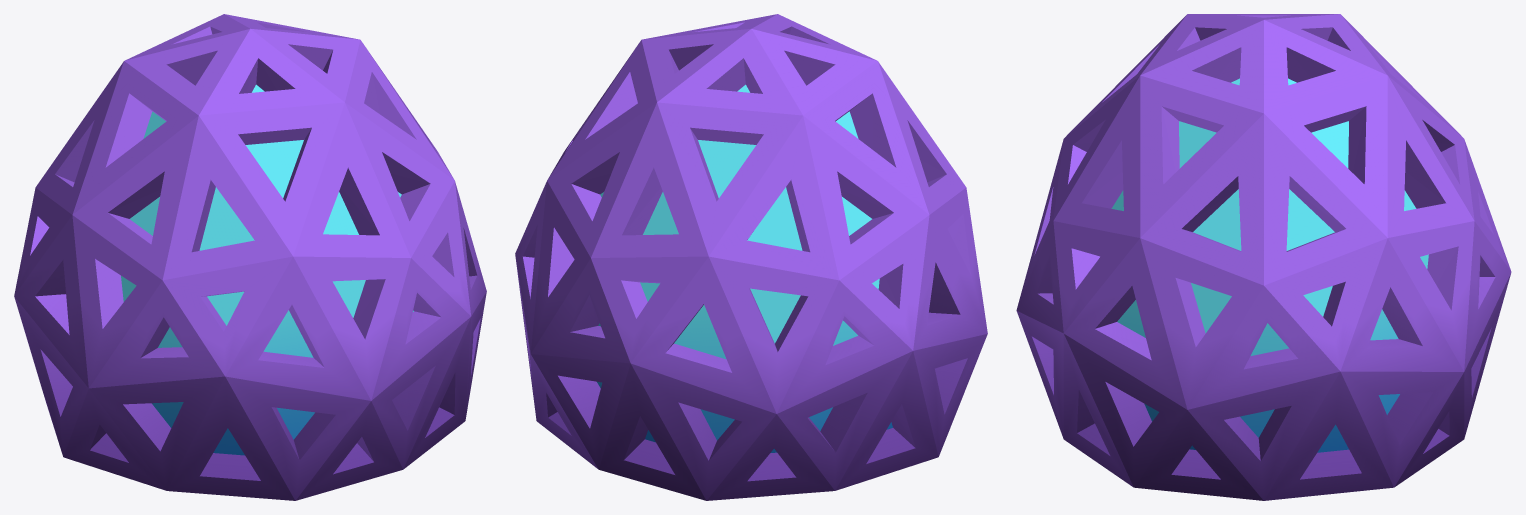
File: SM_Coral_11.fbx
3 views of the same model, side by side, from view 1: azimuth 30°, elevation 25°; view 2: azimuth 150°, elevation 25°; view 3: azimuth 270°, elevation 25° (orthographic). The views are drawn at different scales.
Visible parts, largest first — view 1: Coral_11; view 2: Coral_11; view 3: Coral_11.
Boxes of the visible parts, bbox=[...] form: Coral_11: bbox=[14, 14, 486, 500]; Coral_11: bbox=[515, 14, 987, 500]; Coral_11: bbox=[1016, 14, 1511, 500].
Size of the model in its own units: 69.76 by 64.11 by 73.35.
